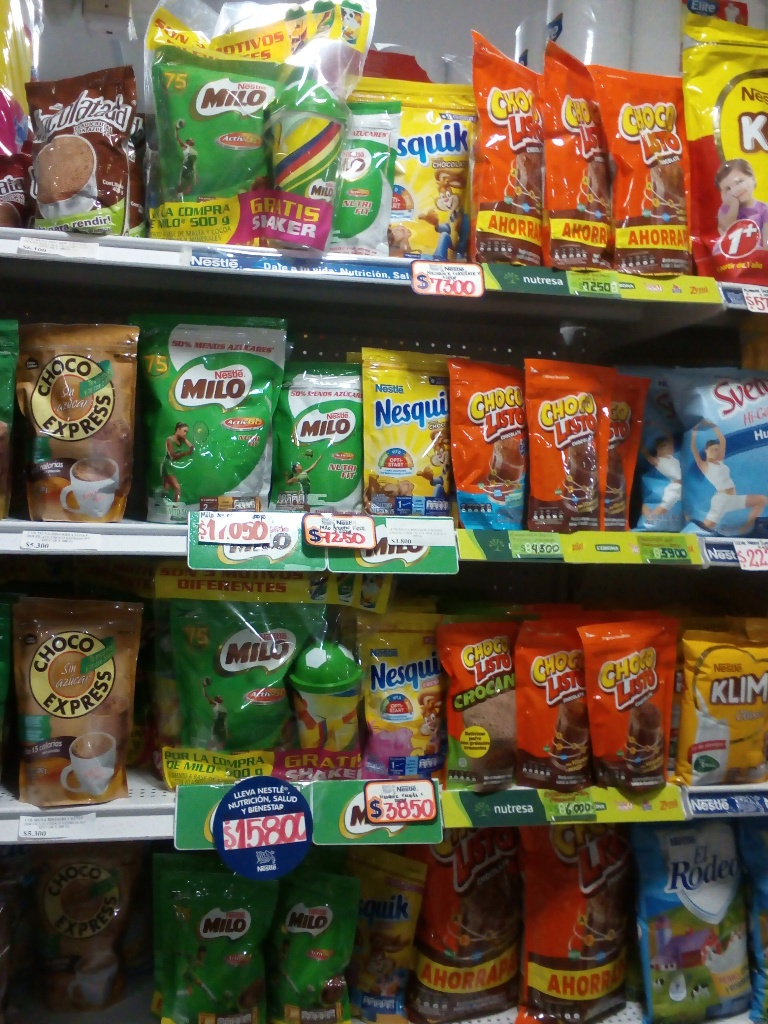COL0170102DYP25000: (442, 613, 513, 789)
COL0170103DYP1,500: (422, 827, 521, 1022)
COL0170103DYP20000: (528, 356, 609, 528)
COL0170103DYP44000: (470, 32, 548, 262)
COL0170104DYP20000: (449, 356, 527, 528)
COL0170203DYP10000: (162, 870, 274, 1024)
COL0170203DYP50000: (142, 46, 280, 203)
COL0170205DYP20000: (336, 102, 394, 260)
COL0170303DYP20000: (358, 345, 461, 524)
COL0170305DYP20000: (350, 611, 447, 782)
